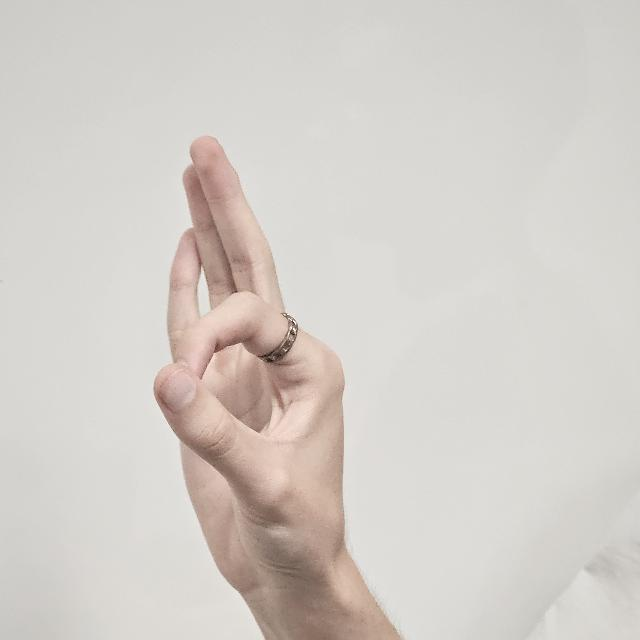Bolinha: (148, 136, 352, 620)
